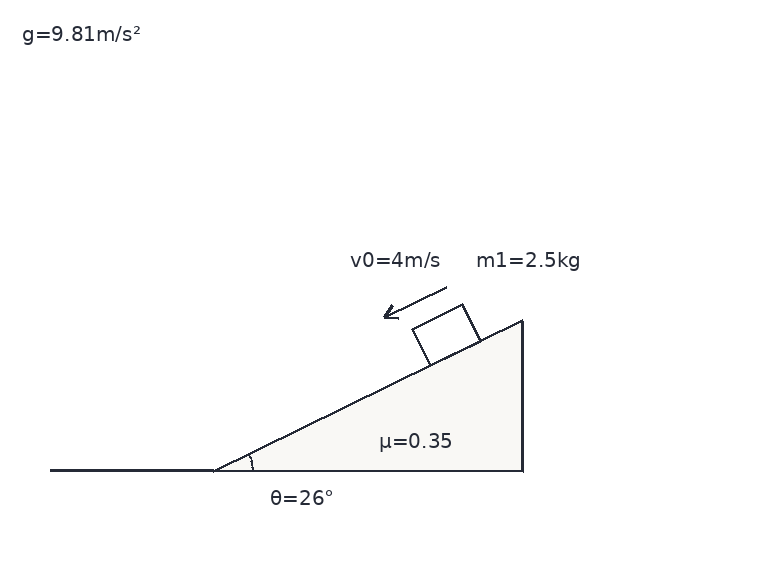block: (410, 302, 482, 367)
ramp: (211, 318, 524, 473)
